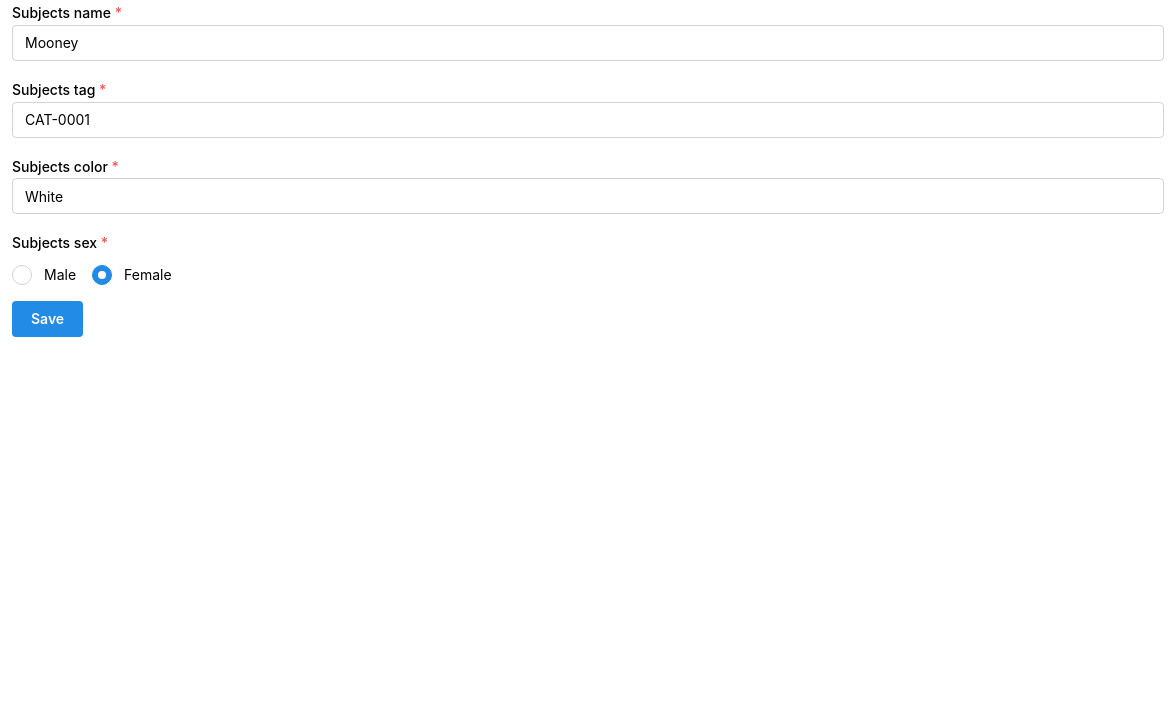
Test: <EditCatForm /> › Errored submissions have a notification
This screenshot has width=1176, height=720.
Click the button with id "submitButton" at x=48, y=319, box [12,301,83,337]
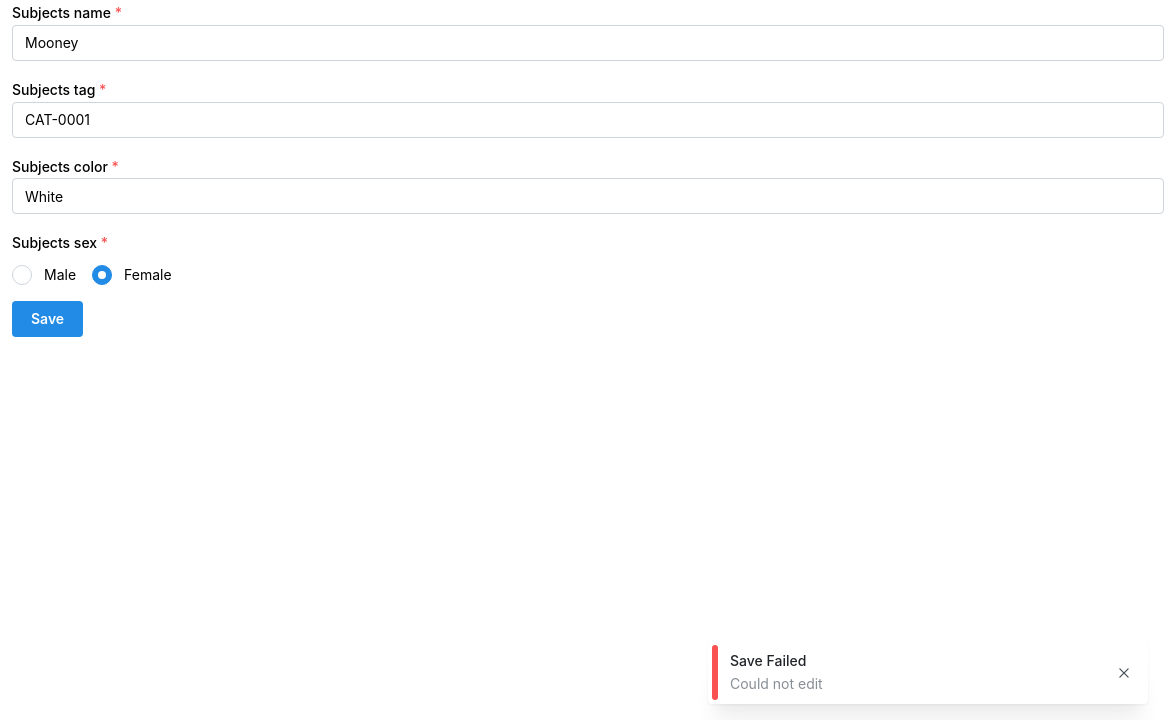
expect the element showing "Save Failed Could not edit" is shown: met, box [730,652,823,692]
